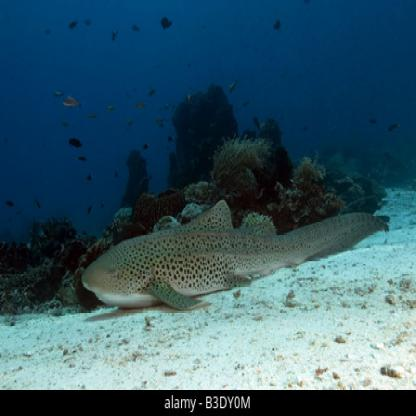zebra_shark: (66, 130, 399, 316)
